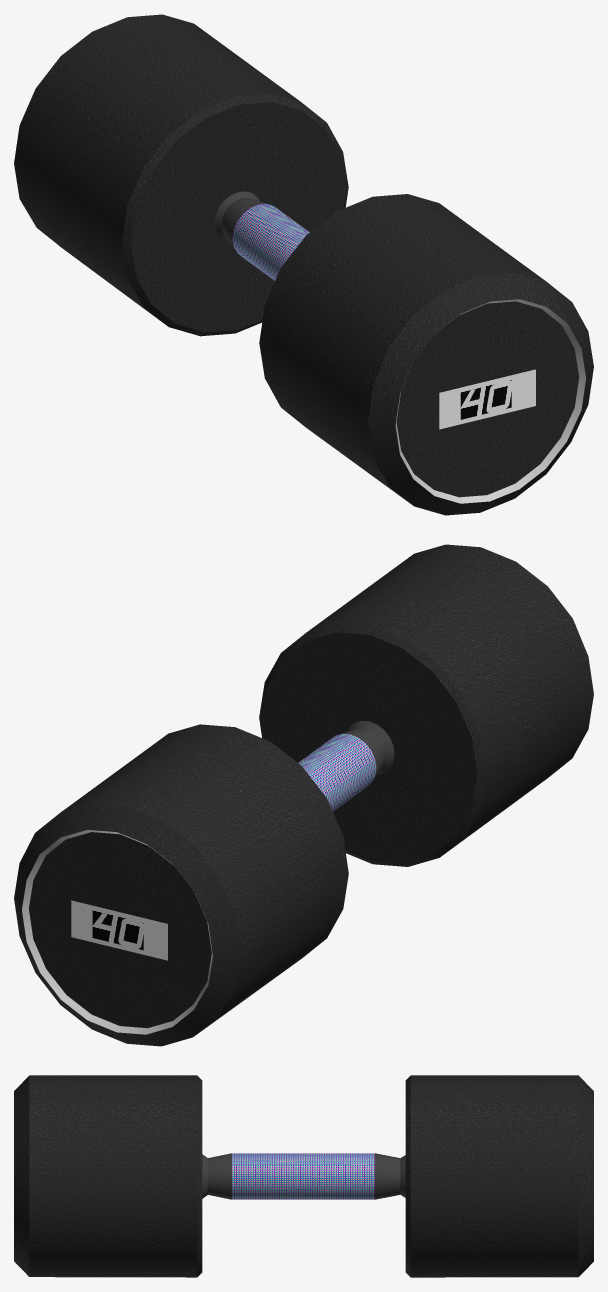
3 views of the same model, one above another, from view 1: azimuth 30°, elevation 25°; view 2: azimuth 150°, elevation 25°; view 3: azimuth 270°, elevation 25° (orthographic). The views are drawn at different scales.
Parts seen in each view (by area): view 1: 40; view 2: 40; view 3: 40.
Part boxes in pixels (box(x1,y1,x2,y2)): 40: box(14, 14, 593, 515); 40: box(14, 544, 593, 1046); 40: box(14, 1075, 593, 1277).
Bounding box in the file's own units: 0.1278 × 0.3639 × 0.1278.
